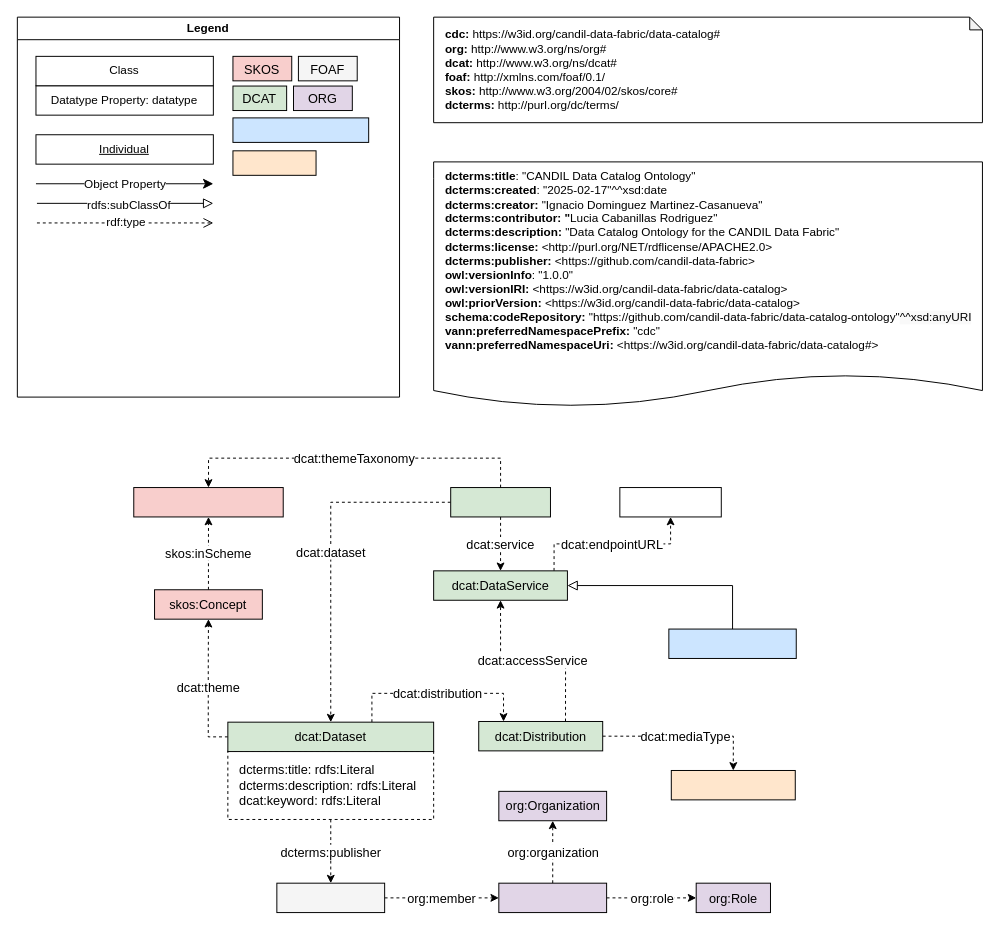
The diagram is 1000 pixels wide and 930 high, and some of its shapes have lost their labels. The box of each missing label's shape, as (x1, y1, x2, y2) in pixels:
CANDIL Data Catalog: (232, 117, 369, 142)
cdc:ContextBroker: (668, 628, 796, 658)
dcat:Catalog: (450, 487, 550, 517)
DCTERMS: (232, 150, 316, 175)
dcterms:MediaType: (670, 769, 795, 800)
foaf:Person: (276, 882, 385, 913)
org:Membership: (498, 882, 607, 913)
rdfs:Resource: (619, 487, 721, 517)
skos:ConceptScheme: (133, 487, 283, 517)
